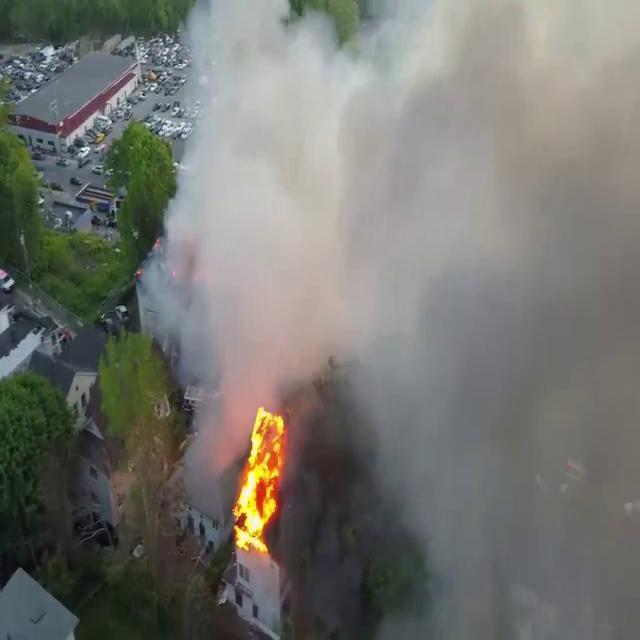Fire: (228, 399, 290, 556)
Smoke: (136, 0, 640, 635)
